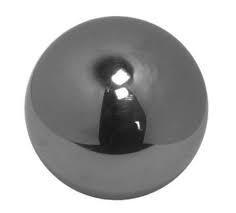steelball: (18, 11, 215, 204)
